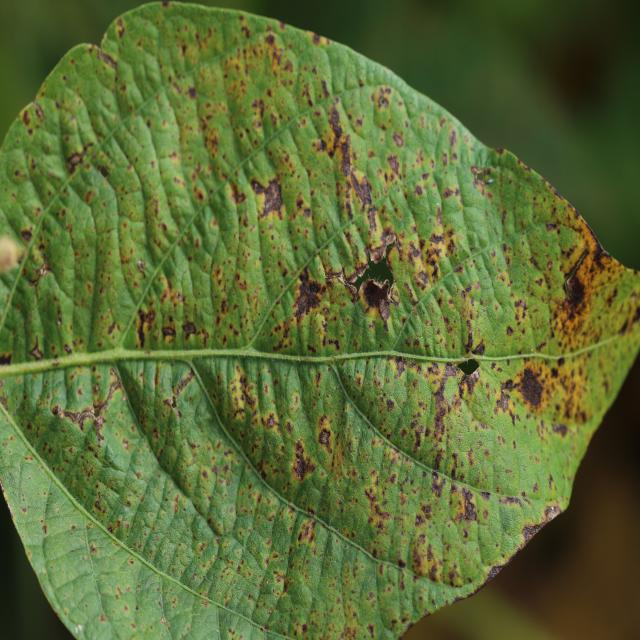Bacterial_Blight: (414, 482, 491, 588), (52, 370, 120, 440), (336, 132, 380, 223), (435, 208, 473, 273), (248, 169, 293, 213), (360, 275, 395, 319), (163, 368, 196, 413), (512, 367, 547, 408), (364, 491, 395, 533), (431, 368, 460, 412), (293, 278, 322, 321), (290, 440, 316, 483), (0, 234, 25, 274), (136, 306, 159, 349), (563, 271, 588, 309), (92, 489, 117, 523), (328, 102, 346, 147), (621, 295, 640, 335), (66, 144, 92, 173), (521, 519, 549, 544), (27, 258, 50, 288), (93, 45, 117, 70), (297, 518, 317, 546), (494, 387, 513, 416), (27, 337, 45, 361), (430, 474, 447, 498), (463, 494, 478, 521), (463, 329, 476, 354), (181, 320, 198, 339), (414, 270, 429, 289), (551, 422, 570, 437), (318, 427, 331, 447), (193, 183, 206, 203), (20, 227, 34, 243), (34, 103, 45, 122), (0, 351, 13, 366), (265, 413, 277, 429), (392, 132, 404, 147), (136, 259, 147, 275), (51, 402, 62, 418), (482, 171, 494, 185), (545, 221, 558, 232), (56, 308, 63, 327), (266, 34, 276, 47), (397, 557, 406, 569), (89, 543, 98, 555), (63, 343, 72, 355), (506, 325, 514, 337), (148, 310, 156, 322), (116, 586, 124, 598), (308, 508, 316, 518), (70, 523, 77, 532), (202, 470, 209, 479), (42, 525, 48, 535), (21, 506, 28, 514), (94, 500, 100, 508), (161, 616, 166, 623)
Soybean: (0, 0, 640, 640)
